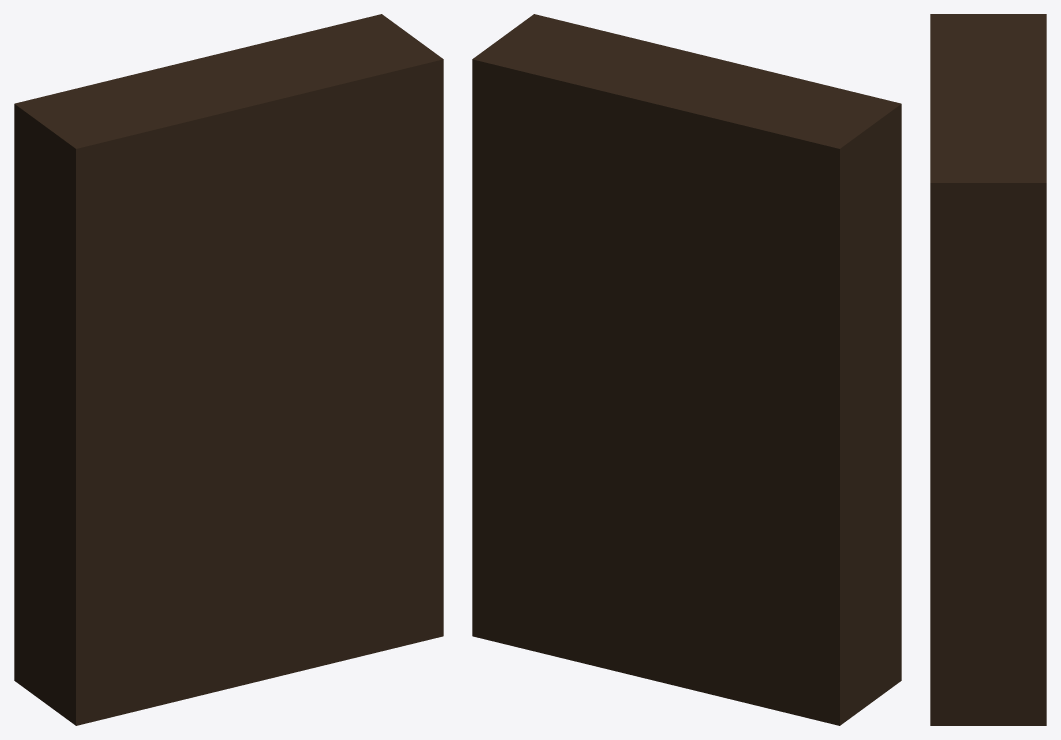
The model's file is PRP_Shelf_A.glb.
3 views of the same model, side by side, from view 1: azimuth 30°, elevation 25°; view 2: azimuth 150°, elevation 25°; view 3: azimuth 270°, elevation 25° (orthographic). The views are drawn at different scales.
Parts seen in each view (by area): view 1: PRP_Shelf_A_Body; view 2: PRP_Shelf_A_Body; view 3: PRP_Shelf_A_Body.
Boxes of the visible parts, x1=… form: PRP_Shelf_A_Body: x1=14, y1=14, x2=443, y2=725; PRP_Shelf_A_Body: x1=472, y1=14, x2=901, y2=725; PRP_Shelf_A_Body: x1=930, y1=14, x2=1046, y2=725.
Bounding box in the file's own units: 1.2 × 1.8 × 0.35.
